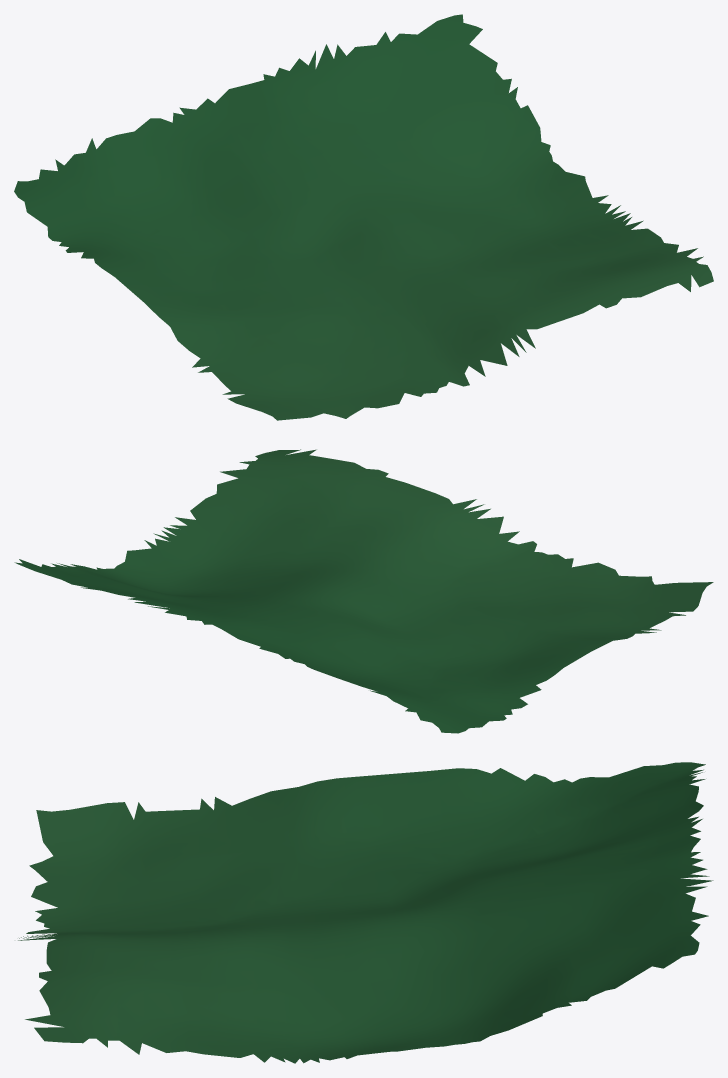
Rendered from payo_land_x3_y5.glb.
The picture shows the model from 3 angles, top to bottom: view 1: azimuth 30°, elevation 25°; view 2: azimuth 150°, elevation 25°; view 3: azimuth 270°, elevation 25°; orthographic projection. The views are drawn at different scales.
Parts seen in each view (by area): view 1: payo_land_x3_y5; view 2: payo_land_x3_y5; view 3: payo_land_x3_y5.
Part boxes in pixels (x1,y1,x2,y2): payo_land_x3_y5: [14, 14, 713, 420]; payo_land_x3_y5: [14, 449, 713, 733]; payo_land_x3_y5: [18, 762, 713, 1063].
Size of the model in its own units: 269 by 62.69 by 274.
